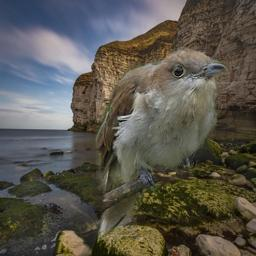Cuckoo: (92, 47, 227, 240)
